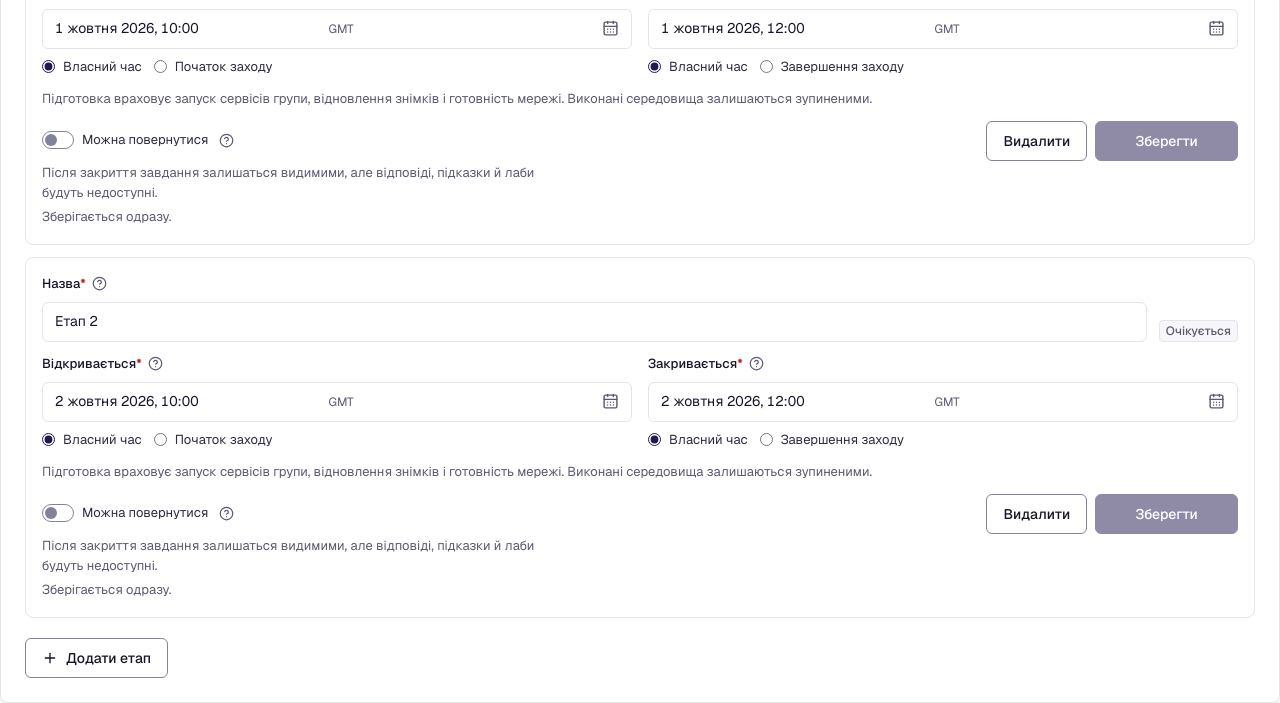
Test case: the stages block › says «видалити», not «зберегти», when deleting a stage fails
(page scrolled)
Expected: the list item with aria-label "Етап «Етап 2»" is shown, [25,256,1255,618]
Step 1. Click the 2nd button "Видалити" → x=1037, y=514, box [986,494,1087,534]
(page scrolled)
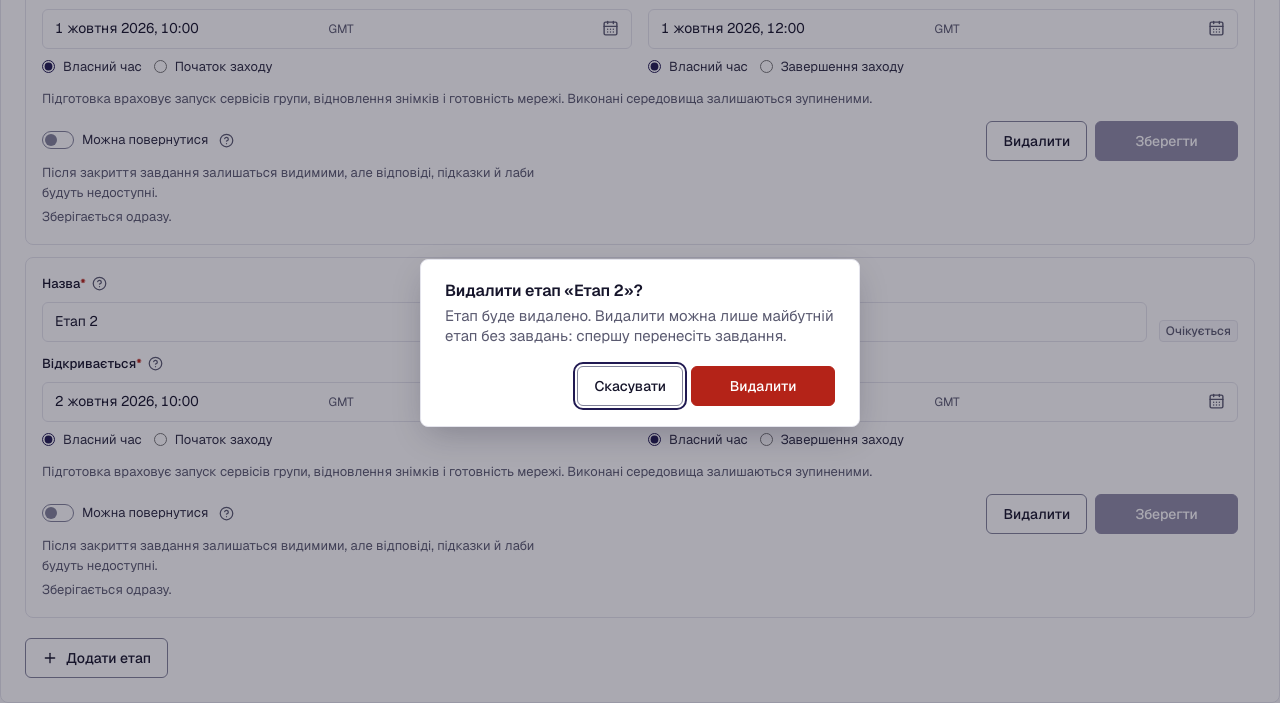
Step 2. Click the button "Видалити" → x=763, y=386, box [691,366,835,406]
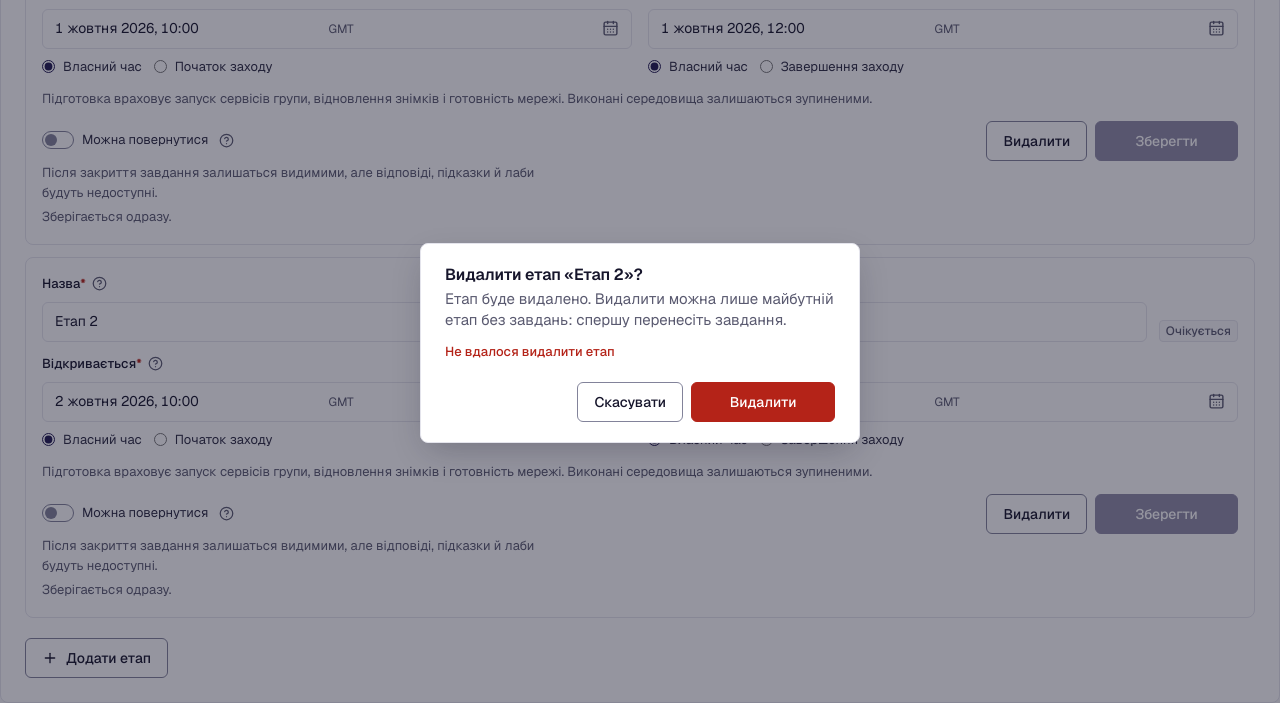
Expected: the text "Не вдалося видалити етап" is shown, [445,343,615,360]
